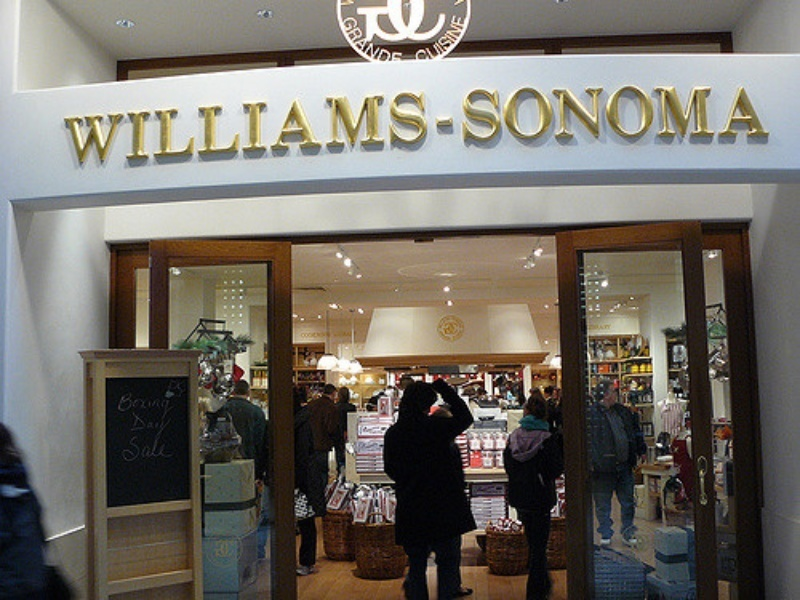text: (65, 77, 80, 170), (81, 77, 96, 170), (97, 77, 112, 170), (113, 77, 128, 170), (129, 77, 144, 170), (145, 77, 160, 170), (161, 77, 176, 170), (177, 77, 192, 170), (193, 77, 208, 170), (209, 77, 224, 170), (225, 77, 240, 170), (241, 77, 256, 170), (257, 77, 272, 170), (273, 77, 288, 170), (289, 77, 304, 170), (305, 77, 320, 170), (321, 77, 336, 170), (337, 77, 352, 170), (353, 77, 368, 170), (369, 77, 384, 170), (385, 77, 400, 170), (401, 77, 416, 170), (417, 77, 432, 170), (433, 77, 448, 170), (449, 77, 464, 170), (465, 77, 480, 170), (481, 77, 496, 170), (497, 77, 512, 170), (513, 77, 528, 170), (529, 77, 544, 170), (545, 77, 560, 170), (561, 77, 576, 170), (577, 77, 592, 170), (593, 77, 608, 170), (609, 77, 624, 170), (625, 77, 640, 170), (641, 77, 656, 170), (657, 77, 672, 170), (673, 77, 688, 170), (689, 77, 704, 170), (705, 77, 720, 170), (721, 77, 736, 170), (737, 77, 752, 170), (753, 77, 768, 170), (353, 13, 368, 74), (369, 13, 384, 74), (385, 13, 400, 74), (417, 13, 432, 71), (433, 13, 448, 71), (449, 13, 464, 71), (465, 13, 479, 71), (129, 433, 144, 463), (145, 433, 160, 463), (161, 433, 175, 463), (769, 77, 773, 170), (145, 413, 160, 434), (129, 393, 144, 413), (145, 393, 160, 413), (161, 393, 175, 413), (132, 413, 144, 434), (412, 13, 416, 71), (161, 413, 170, 434), (349, 13, 352, 74), (401, 13, 404, 74), (119, 393, 128, 413), (593, 322, 608, 332), (63, 77, 64, 170), (586, 322, 592, 332), (609, 322, 615, 332), (127, 433, 128, 463)
